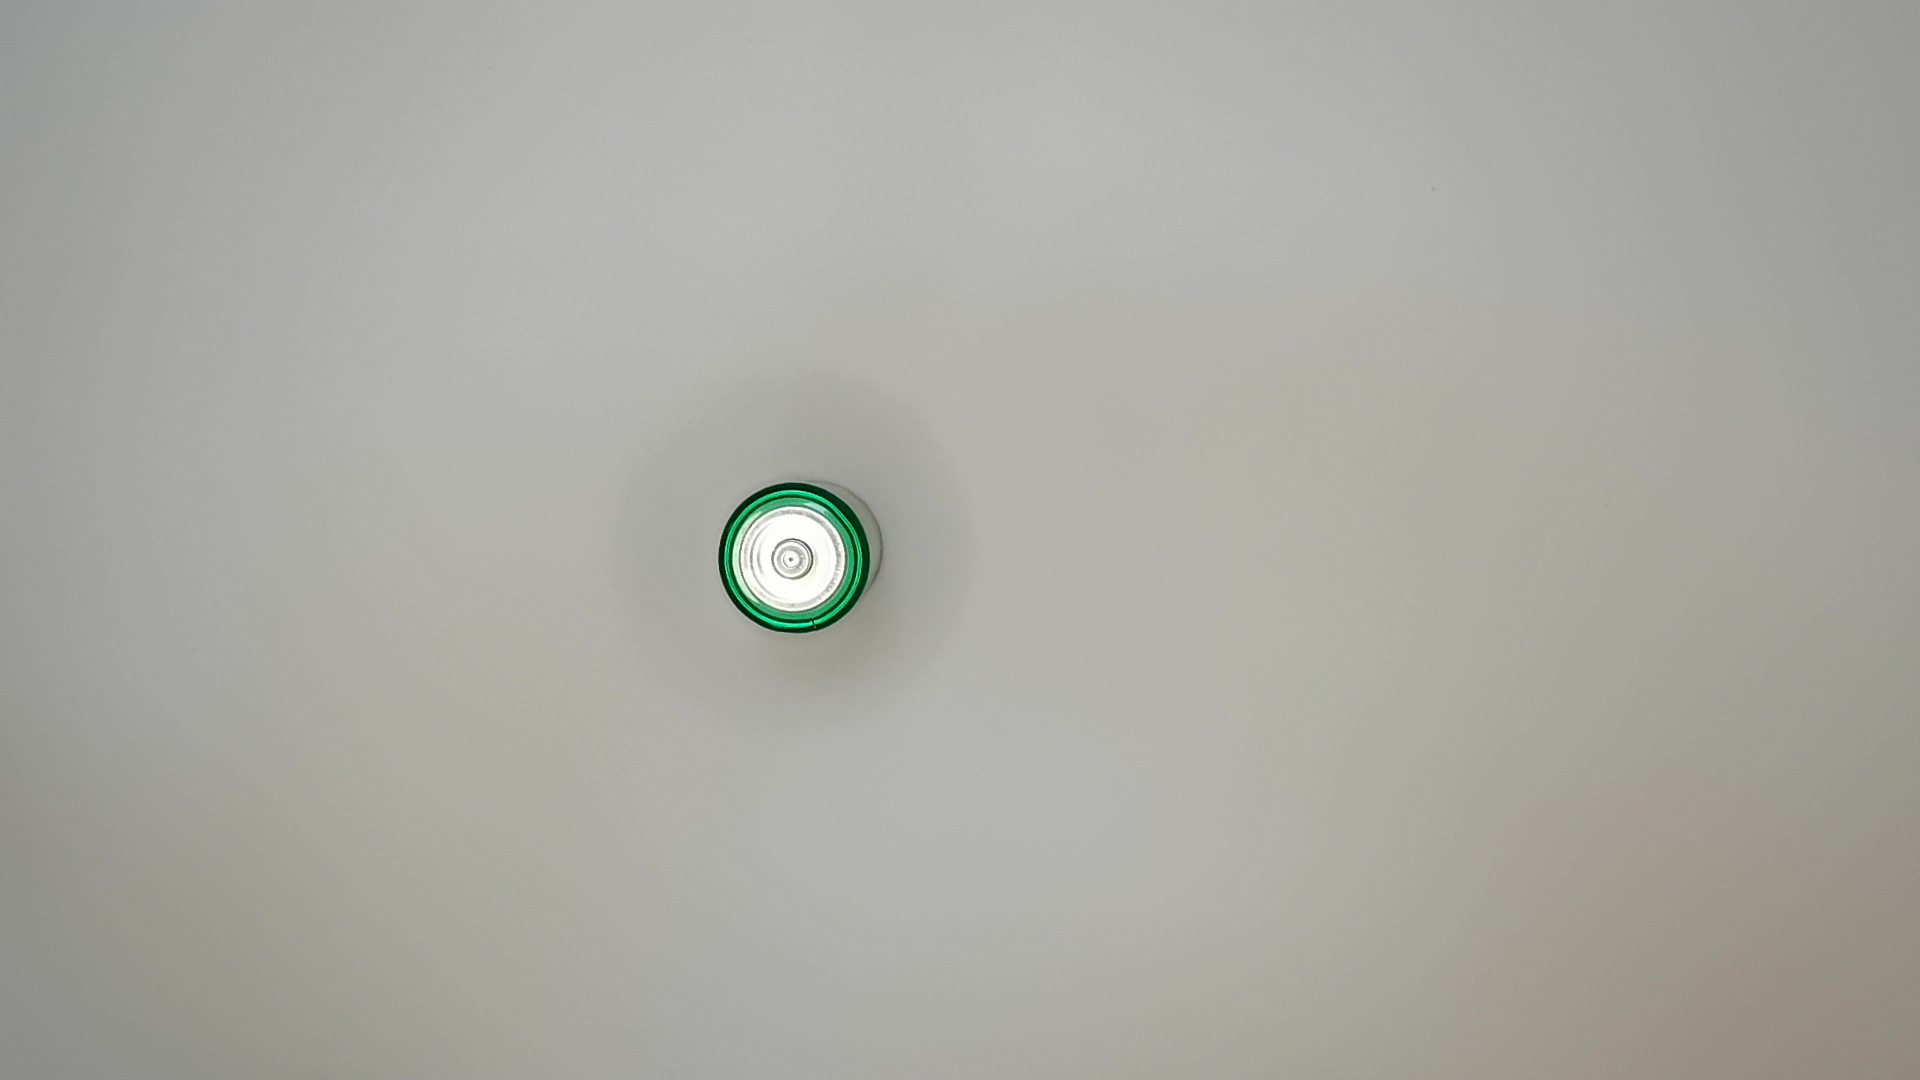battery: (717, 475, 887, 638)
